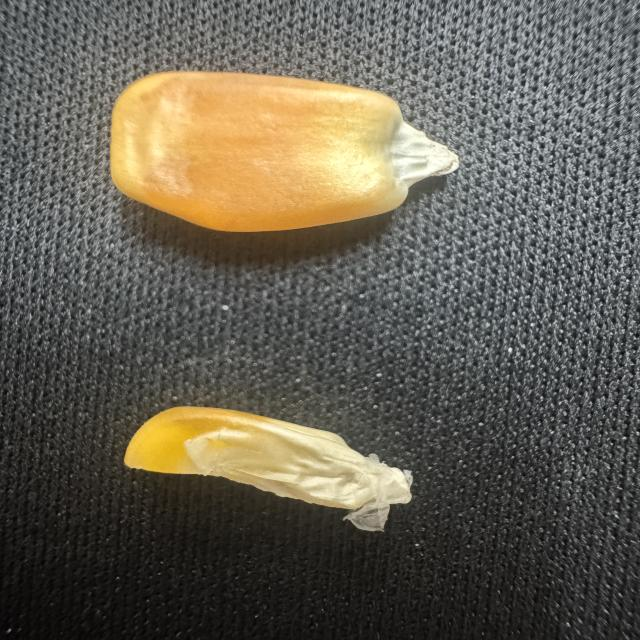Bad-Seed: (117, 404, 438, 538)
Good-Seed: (91, 65, 464, 238)
